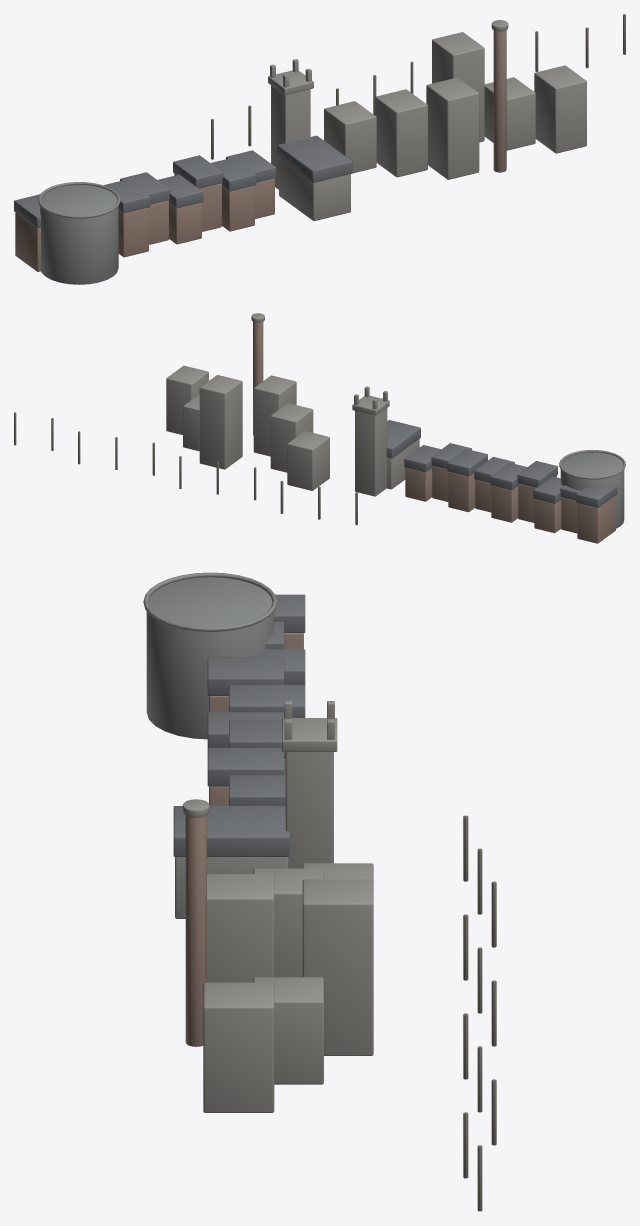
File: distant_town_v1.glb
3 renders of one model, top to bottom at view 1: azimuth 30°, elevation 25°; view 2: azimuth 150°, elevation 25°; view 3: azimuth 270°, elevation 25°, orthographic. The views are drawn at different scales.
Parts seen in each view (by area): view 1: DistantTown; view 2: DistantTown; view 3: DistantTown.
Boxes of the visible parts, left/top/right/bottom form: DistantTown: left=14, top=14, right=625, bottom=284; DistantTown: left=14, top=313, right=625, bottom=543; DistantTown: left=143, top=572, right=496, bottom=1211.
Bounding box in the file's own units: 176 × 37 × 49.79.
